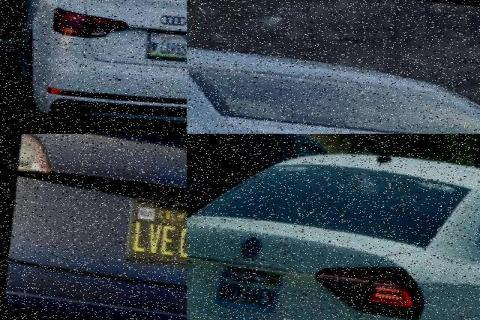LicensePlate: (119, 195, 188, 269), (212, 266, 279, 314), (141, 26, 187, 60)
